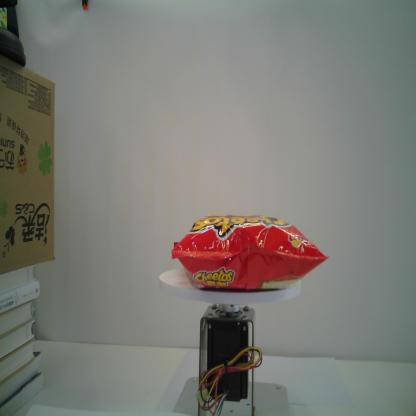Puffed Food: (171, 212, 330, 293)
